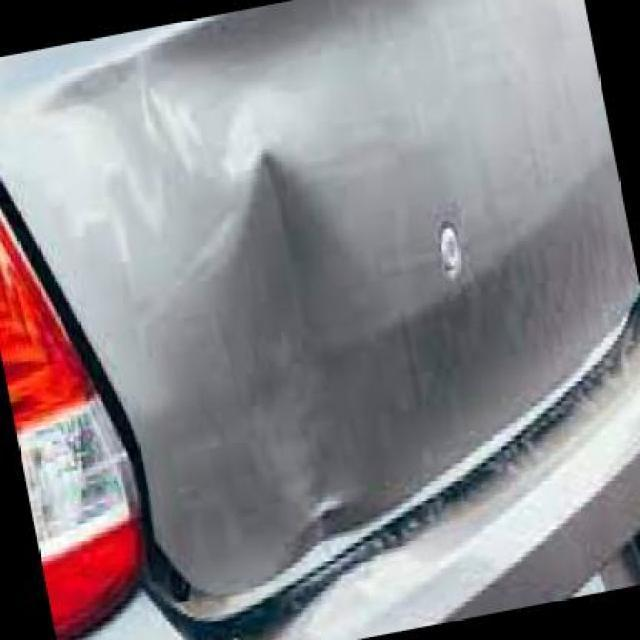dent: (226, 154, 392, 469)
